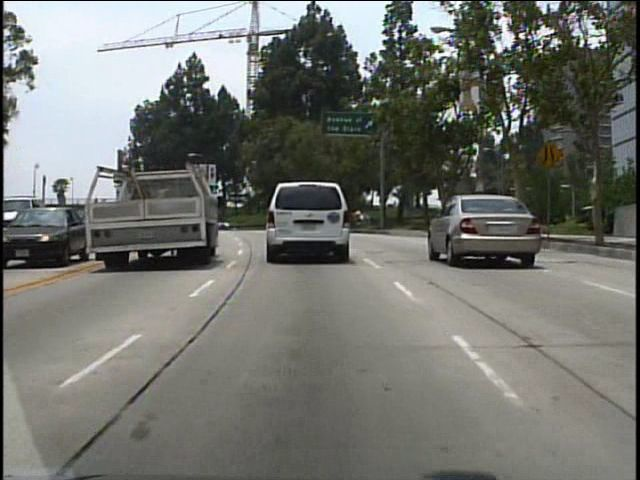person: (453, 193, 472, 234)
